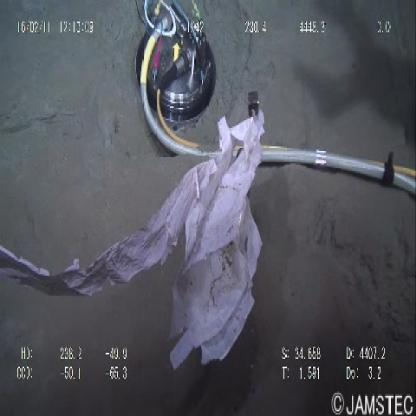Rov: (131, 2, 217, 138)
Rác: (1, 108, 268, 373)
